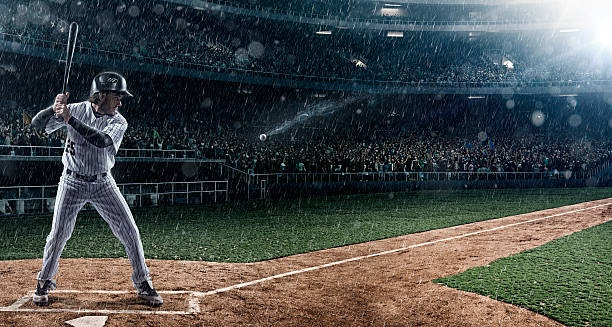bita: (53, 22, 81, 106)
